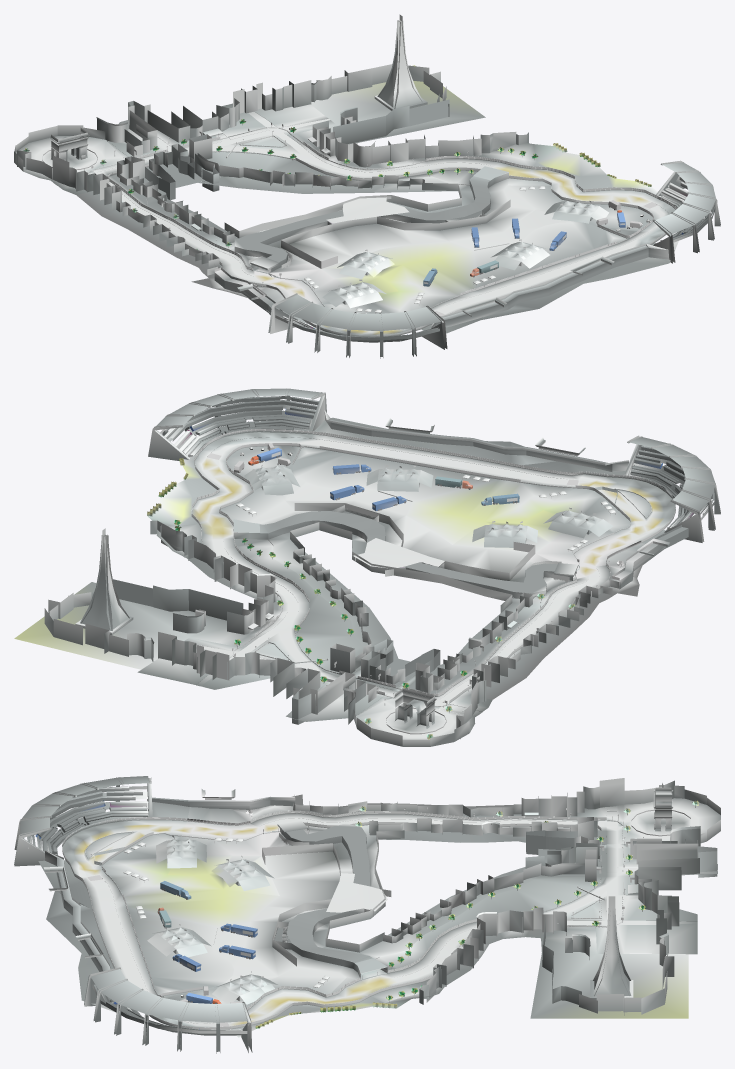
File: CARSMAP 1.fbx
3 views of the same model, one above another, from view 1: azimuth 30°, elevation 25°; view 2: azimuth 150°, elevation 25°; view 3: azimuth 270°, elevation 25° (orthographic). The views are drawn at different scales.
Parts seen in each view (by area): view 1: Object_18, Object_29, Object_12, Object_59, Object_10, Object_9, Object_28, Object_11, Object_44, Object_16, Object_24, Object_40 (+15 smaller); view 2: Object_29, Object_18, Object_12, Object_59, Object_9, Object_10, Object_16, Object_44, Object_24, Object_11, Object_28, Object_40 (+17 smaller); view 3: Object_29, Object_18, Object_59, Object_12, Object_10, Object_9, Object_28, Object_16, Object_24, Object_11, Object_44, Object_2 (+17 smaller).
Boxes of the visible parts, box(x1,y1,x2,y2) form: Object_18: box(15, 95, 720, 358); Object_29: box(191, 65, 678, 333); Object_12: box(15, 80, 510, 268); Object_59: box(253, 162, 657, 335); Object_10: box(14, 64, 528, 266); Object_9: box(69, 68, 526, 261); Object_28: box(275, 162, 715, 330); Object_11: box(14, 65, 429, 211); Object_44: box(35, 111, 494, 281); Object_16: box(234, 172, 508, 273); Object_24: box(107, 136, 717, 340); Object_40: box(214, 244, 669, 328); Object_29: box(14, 417, 675, 669); Object_18: box(75, 388, 720, 739); Object_12: box(113, 503, 579, 746); Object_59: box(192, 446, 666, 582); Object_9: box(85, 520, 587, 724); Object_10: box(48, 520, 603, 741); Object_16: box(233, 505, 572, 598); Object_44: box(196, 539, 599, 737); Object_24: box(160, 396, 715, 702); Object_11: box(44, 550, 472, 746); Object_28: box(155, 388, 715, 511); Object_40: box(324, 410, 688, 589); Object_29: box(38, 794, 688, 1037); Object_18: box(14, 776, 720, 1053); Object_59: box(71, 824, 399, 1025); Object_12: box(262, 778, 720, 994); Object_10: box(310, 785, 706, 1015); Object_9: box(338, 786, 700, 1004); Object_28: box(20, 776, 247, 1022); Object_16: box(275, 823, 391, 978); Object_24: box(62, 786, 623, 1033); Object_11: box(391, 789, 706, 1014); Object_44: box(265, 806, 717, 982); Object_2: box(73, 824, 397, 1026).
Bounding box in the file's own units: 108154 × 19893 × 124106.
